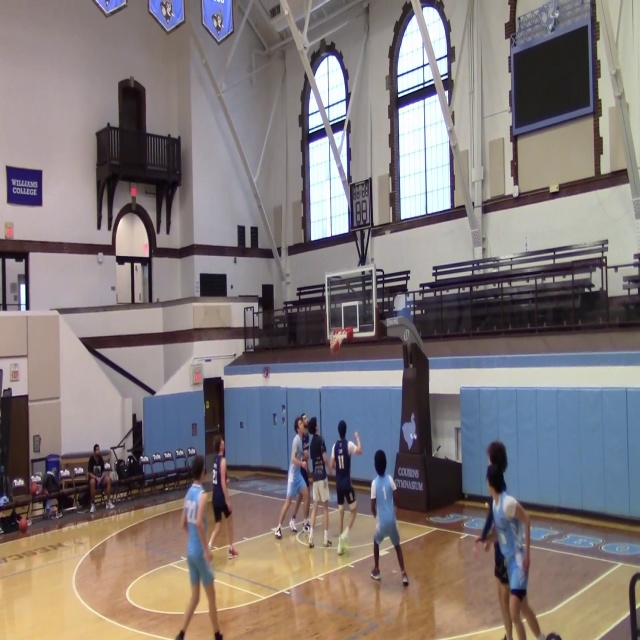Basketball: (545, 632, 562, 640), (18, 518, 27, 532), (348, 441, 356, 455), (30, 482, 38, 494)
